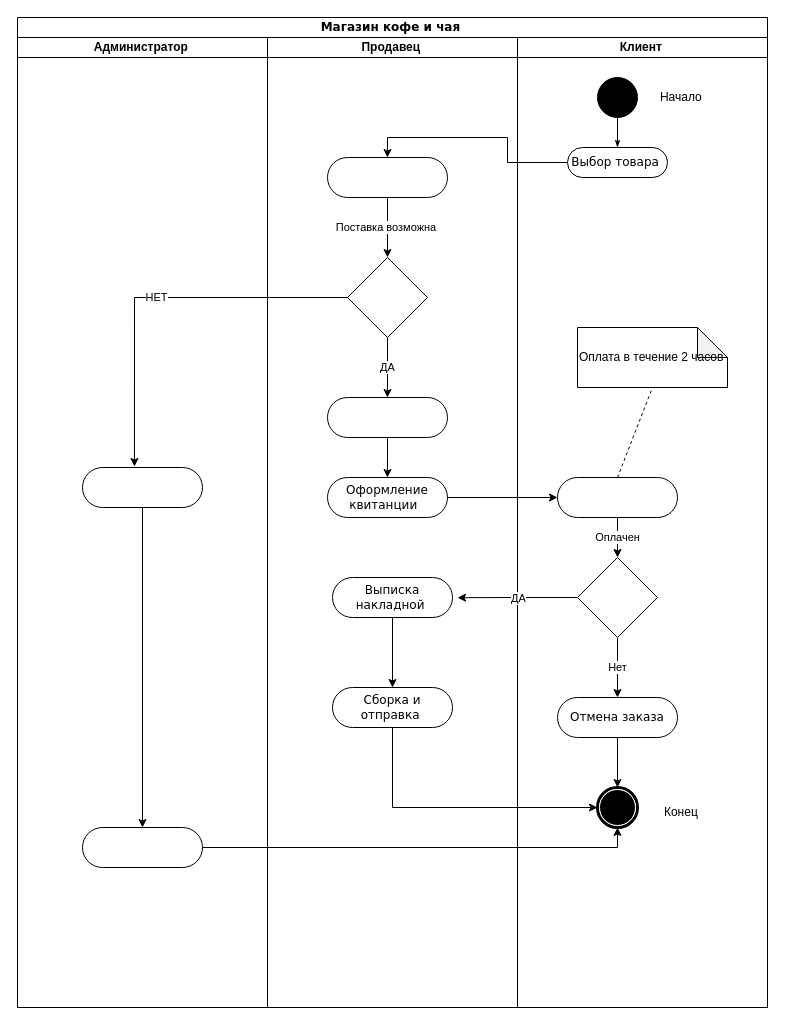
This 785x1025 diagram has some shape labels left out. The shapes that lost their labels are listed below. From the top down, each one's box as (x1, y1, x2, y2) in pixels, then its label:
(326, 156, 448, 198): Определение наличия товара
(326, 396, 448, 438): создание заказа
(82, 466, 202, 508): Изменение котолога товара
(556, 476, 678, 518): Оплата квитанции
(82, 826, 202, 868): Инвентаризация базы данных
